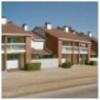chimneys: (21, 22, 28, 34), (44, 22, 52, 32), (87, 30, 95, 40), (2, 16, 8, 28), (64, 25, 70, 35)
